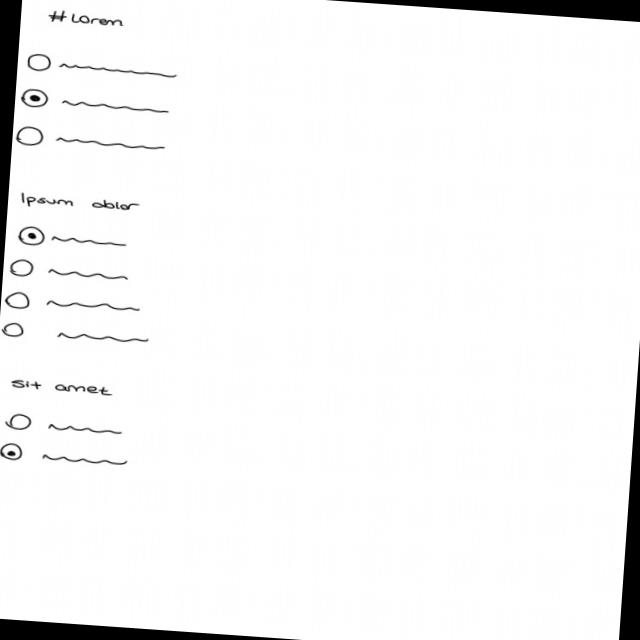label: (17, 192, 146, 216), (10, 377, 118, 400), (45, 9, 129, 31)
radio: (14, 124, 170, 159), (19, 87, 174, 121), (21, 52, 183, 83), (1, 319, 154, 350), (3, 290, 146, 322), (1, 441, 134, 471), (15, 223, 132, 256), (7, 257, 136, 286), (4, 412, 129, 440)
